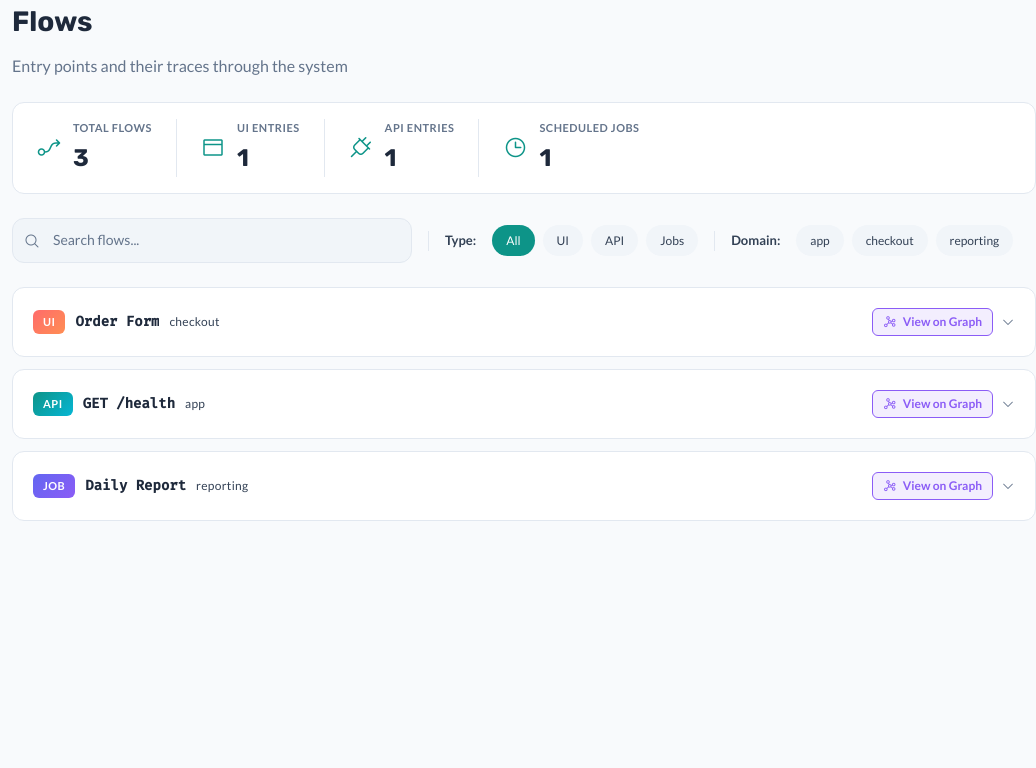
Test: FlowsPage › filtering › filters by UI type
Click the button "UI": (563, 241) 543,225 -> 583,256
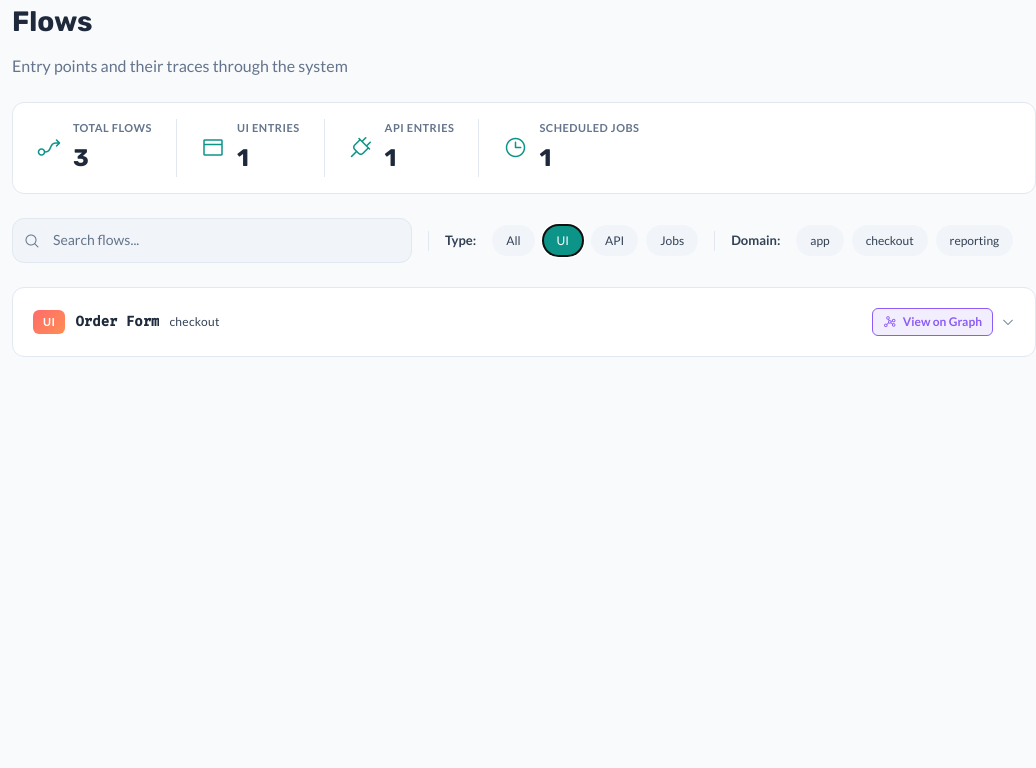
expect the text "Order Form" is shown: met, box 76,310 -> 160,334
expect the button "GET /health" is gone: met
expect the button "Daily Report" is gone: met
